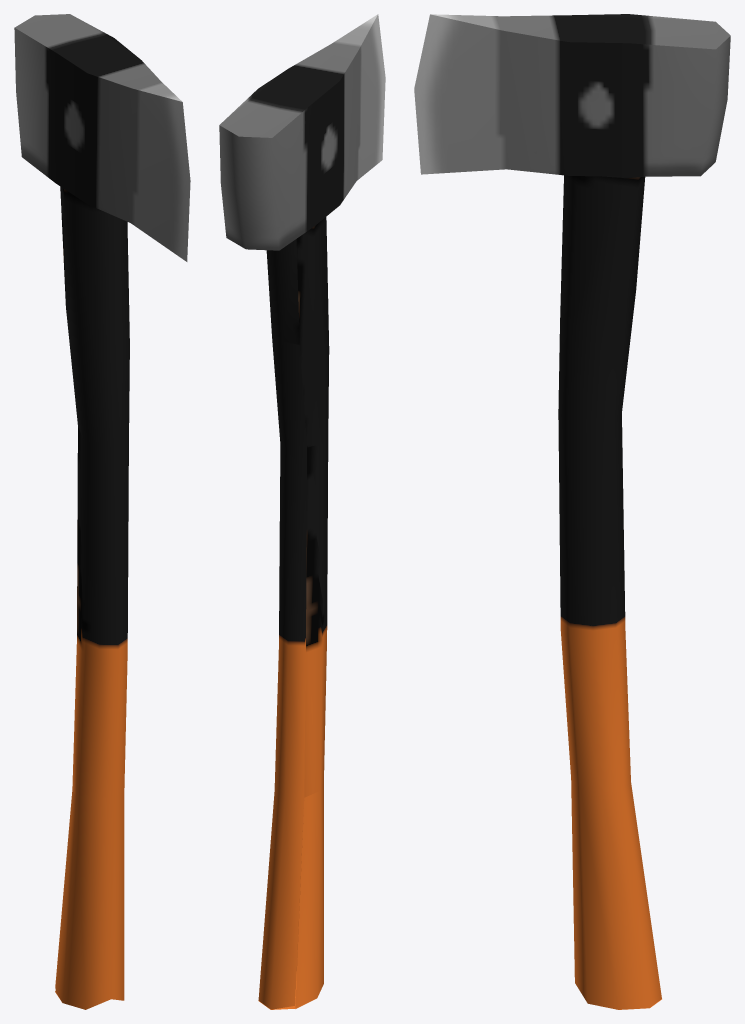
Rendered from Axy.fbx.
3 views of the same model, side by side, from view 1: azimuth 30°, elevation 25°; view 2: azimuth 150°, elevation 25°; view 3: azimuth 270°, elevation 25° (orthographic). The views are drawn at different scales.
Visible parts, largest first — view 1: node_f3c64bfa_3a40_4813_b338_9256c8486369_mesh0; view 2: node_f3c64bfa_3a40_4813_b338_9256c8486369_mesh0; view 3: node_f3c64bfa_3a40_4813_b338_9256c8486369_mesh0.
Boxes of the visible parts, x1,y1,x2,y2 form: node_f3c64bfa_3a40_4813_b338_9256c8486369_mesh0: (14, 14, 190, 1009); node_f3c64bfa_3a40_4813_b338_9256c8486369_mesh0: (219, 14, 385, 1009); node_f3c64bfa_3a40_4813_b338_9256c8486369_mesh0: (414, 14, 730, 1009).
Size of the model in its own units: 0.0258 by 0.4041 by 0.1177.
